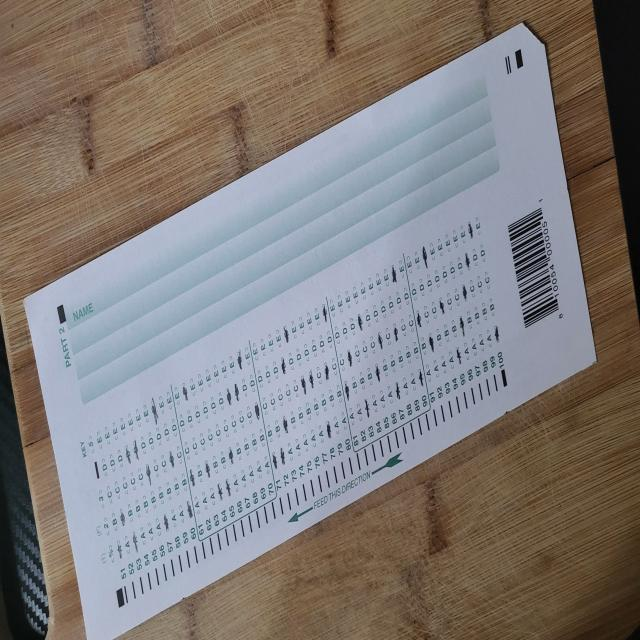scantron_back: (22, 21, 598, 640)
